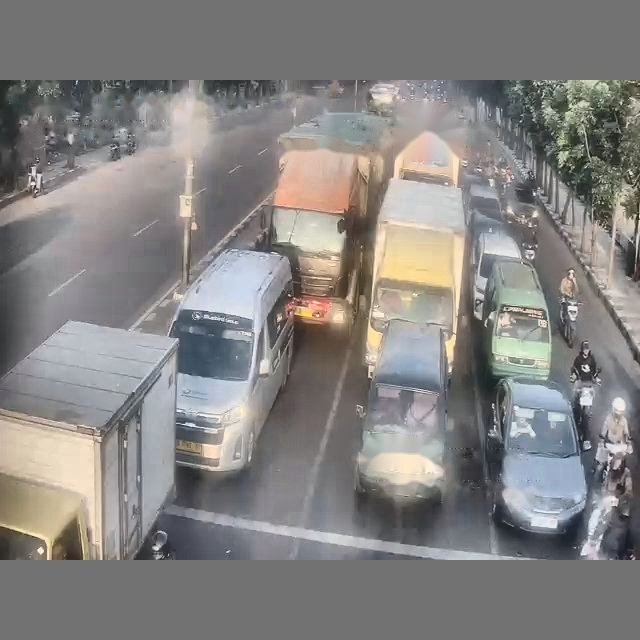Mobil: (485, 378, 587, 534), (470, 231, 521, 320), (501, 182, 539, 226), (367, 83, 399, 114)
Motor: (570, 374, 601, 449), (594, 442, 631, 485), (559, 297, 581, 347), (27, 168, 41, 197), (109, 142, 120, 160)
Truk: (0, 321, 177, 559), (365, 178, 466, 378), (393, 131, 461, 186)
